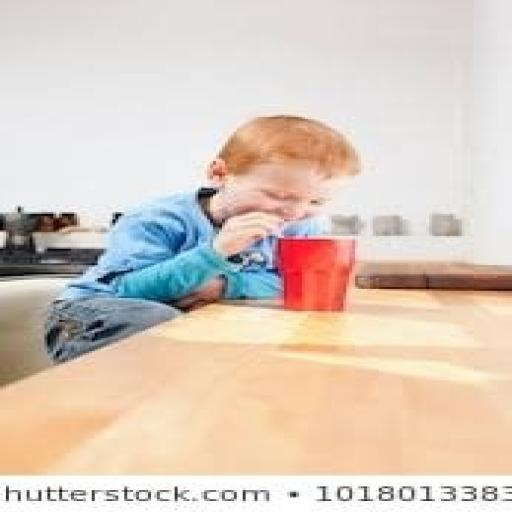drinking: (272, 234, 355, 311)
